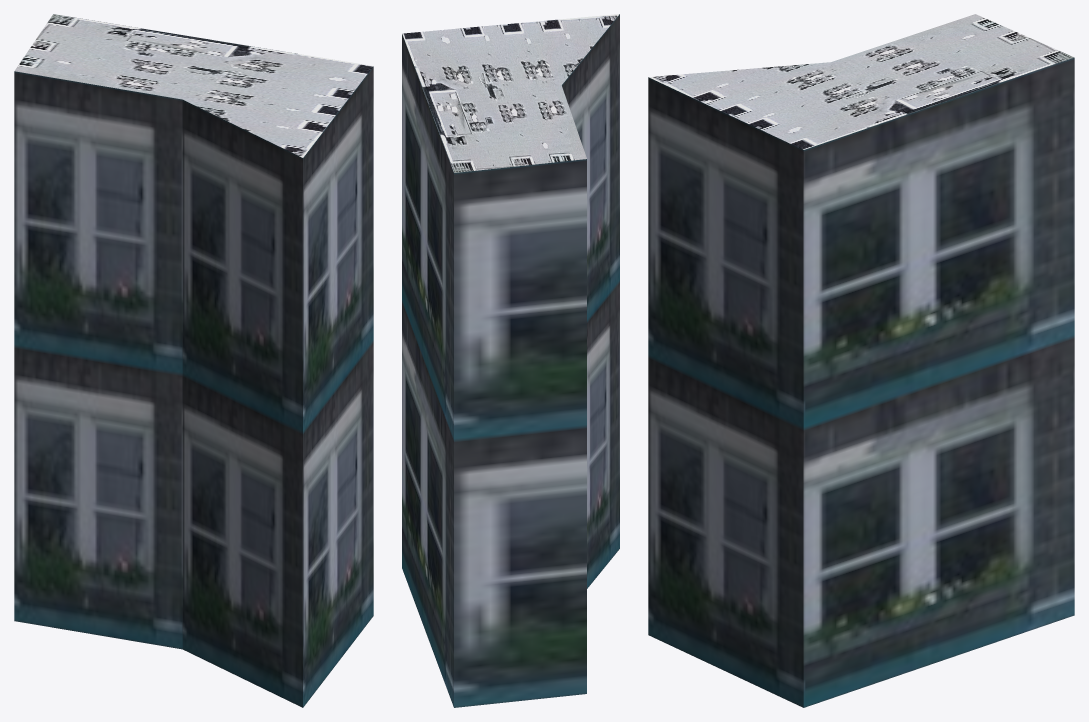
File: ResTex__1526.fbx
3 renders of one model, left to right at view 1: azimuth 30°, elevation 25°; view 2: azimuth 150°, elevation 25°; view 3: azimuth 270°, elevation 25°, orthographic. The views are drawn at different scales.
Parts seen in each view (by area): view 1: CityEngineMaterial_11_m, CityEngineMaterial_8_m; view 2: CityEngineMaterial_11_m, CityEngineMaterial_8_m; view 3: CityEngineMaterial_11_m, CityEngineMaterial_8_m.
Part boxes in pixels (x1,y1,x2,y2): CityEngineMaterial_11_m: (14,66,373,707); CityEngineMaterial_8_m: (14,14,373,157); CityEngineMaterial_11_m: (402,14,619,707); CityEngineMaterial_8_m: (402,14,619,172); CityEngineMaterial_11_m: (648,57,1074,707); CityEngineMaterial_8_m: (648,14,1074,149).
Bounding box in the file's own units: 3.14 × 6 × 4.16.
Materials: 2 (2 with a texture image).
